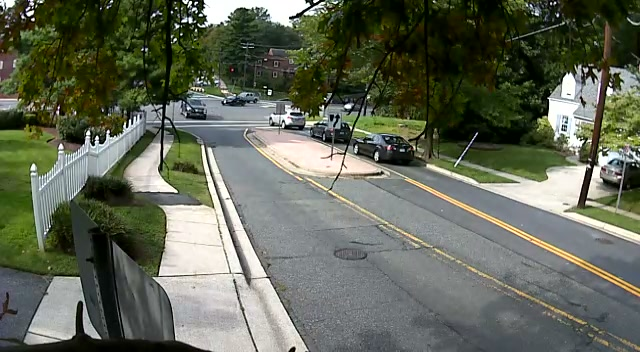car: (350, 133, 414, 165), (600, 153, 640, 189), (310, 118, 351, 143), (180, 98, 207, 119), (280, 112, 306, 130), (237, 92, 260, 104), (222, 96, 239, 106)
